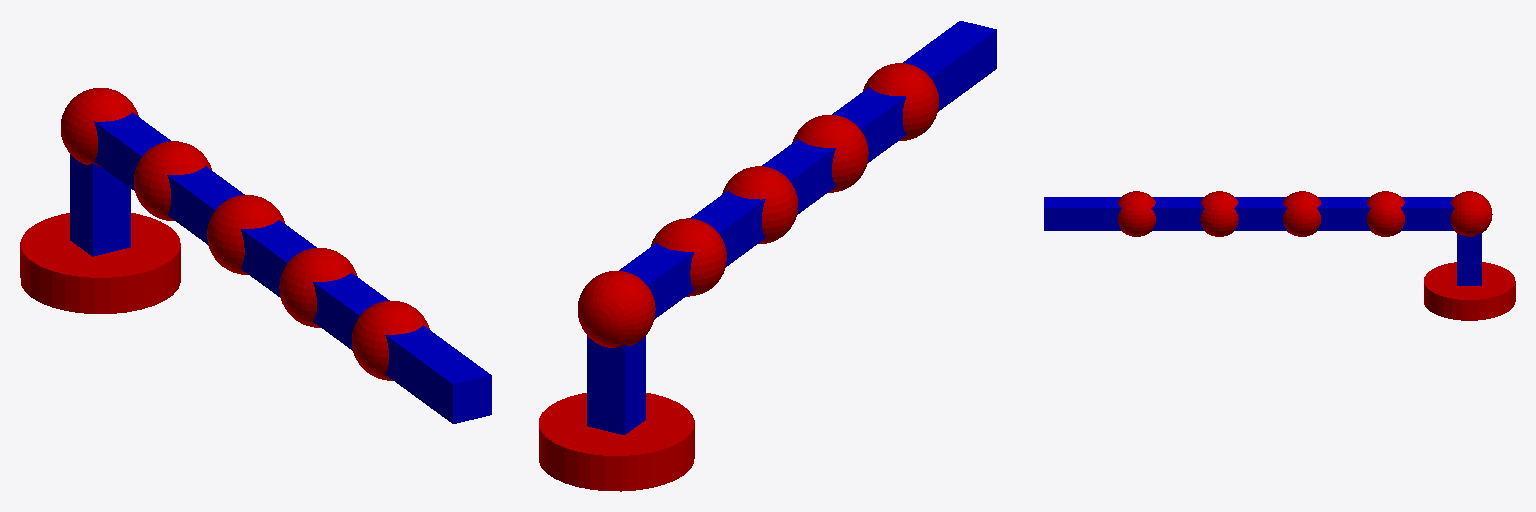
URDF robot description (divar3v1515955550):
<?xml version="1.0"?>
<robot  name="divar3v1515955550" >
 <material  name="blue" >
  <color  rgba="0 0 0.8 1.0" />
 </material>
 <material  name="red" >
  <color  rgba="0.8 0 0 1.0" />
 </material>
 <link  name="base_link" >
  <visual >
   <origin  xyz="0 0 0"  rpy="0 0 0" />
   <material  name="red" />
   <geometry >
    <cylinder  length="0.05"  radius="0.1" />
   </geometry>
  </visual>
 </link>
 <joint  name="joint1"  type="revolute" >
  <parent  link="base_link" />
  <child  link="link1" />
  <origin  xyz="0 0 0"  rpy="0 0 0" />
  <axis  xyz="0 0 1" />
 </joint>
 <link  name="link1" >
  <inertial >
   <origin  xyz="0 0 0.0924"  rpy="0 0 0" />
   <mass  value="0.586971" />
   <inertia  ixy="0.0"  ixz="0.0"  ixx="0.0018184381145699997"  iyy="0.0002959312125"  iyz="0.0"  izz="0.0018184381145699997" />
  </inertial>
  <visual >
   <origin  xyz="0 0 0.0924"  rpy="0 0 0" />
   <material  name="blue" />
   <geometry >
    <box  size="0.055 0.055 0.1848" />
   </geometry>
  </visual>
 </link>
 <joint  name="joint-joint-1"  type="fixed" >
  <parent  link="link1" />
  <child  link="joint-link-1" />
  <origin  xyz="0 0 0.1848"  rpy="1.5707 0 0" />
  <axis  xyz="1 0 0" />
 </joint>
 <link  name="joint-link-1" >
  <inertial >
   <origin  xyz="0 0 0"  rpy="0 0 0" />
   <mass  value="0.1" />
   <inertia  ixy="0"  ixz="0"  ixx="0"  iyy="0"  iyz="0"  izz="0" />
  </inertial>
  <visual >
   <origin  xyz="0 0 0"  rpy="0 0 0" />
   <material  name="red" />
   <geometry >
    <sphere  radius="0.05" />
   </geometry>
  </visual>
 </link>
 <joint  name="joint2"  type="revolute" >
  <parent  link="link1" />
  <child  link="link2" />
  <origin  xyz="0 0 0.1848"  rpy="1.5707 0 0" />
  <axis  xyz="1 0 0" />
 </joint>
 <link  name="link2" >
  <inertial >
   <origin  xyz="0 0 0.09115"  rpy="0 0 0" />
   <mass  value="0.579030375" />
   <inertia  ixy="0.0"  ixz="0.0"  ixx="0.0017495542712965622"  iyy="0.00029192781406249996"  iyz="0.0"  izz="0.0017495542712965622" />
  </inertial>
  <visual >
   <origin  xyz="0 0 0.09115"  rpy="0 0 0" />
   <material  name="blue" />
   <geometry >
    <box  size="0.055 0.055 0.1823" />
   </geometry>
  </visual>
 </link>
 <joint  name="joint-joint-2"  type="fixed" >
  <parent  link="link2" />
  <child  link="joint-link-2" />
  <origin  xyz="0 0 0.1823"  rpy="1.5707 0 0" />
  <axis  xyz="1 0 0" />
 </joint>
 <link  name="joint-link-2" >
  <inertial >
   <origin  xyz="0 0 0"  rpy="0 0 0" />
   <mass  value="0.1" />
   <inertia  ixy="0"  ixz="0"  ixx="0"  iyy="0"  iyz="0"  izz="0" />
  </inertial>
  <visual >
   <origin  xyz="0 0 0"  rpy="0 0 0" />
   <material  name="red" />
   <geometry >
    <sphere  radius="0.05" />
   </geometry>
  </visual>
 </link>
 <joint  name="joint3"  type="revolute" >
  <parent  link="link2" />
  <child  link="link3" />
  <origin  xyz="0 0 0.1823"  rpy="0 0 0" />
  <axis  xyz="0 0 1" />
 </joint>
 <link  name="link3" >
  <inertial >
   <origin  xyz="0 0 0.09115"  rpy="0 0 0" />
   <mass  value="0.579030375" />
   <inertia  ixy="0.0"  ixz="0.0"  ixx="0.0017495542712965622"  iyy="0.00029192781406249996"  iyz="0.0"  izz="0.0017495542712965622" />
  </inertial>
  <visual >
   <origin  xyz="0 0 0.09115"  rpy="0 0 0" />
   <material  name="blue" />
   <geometry >
    <box  size="0.055 0.055 0.1823" />
   </geometry>
  </visual>
 </link>
 <joint  name="joint-joint-3"  type="fixed" >
  <parent  link="link3" />
  <child  link="joint-link-3" />
  <origin  xyz="0 0 0.1823"  rpy="1.5707 0 0" />
  <axis  xyz="1 0 0" />
 </joint>
 <link  name="joint-link-3" >
  <inertial >
   <origin  xyz="0 0 0"  rpy="0 0 0" />
   <mass  value="0.1" />
   <inertia  ixy="0"  ixz="0"  ixx="0"  iyy="0"  iyz="0"  izz="0" />
  </inertial>
  <visual >
   <origin  xyz="0 0 0"  rpy="0 0 0" />
   <material  name="red" />
   <geometry >
    <sphere  radius="0.05" />
   </geometry>
  </visual>
 </link>
 <joint  name="joint4"  type="revolute" >
  <parent  link="link3" />
  <child  link="link4" />
  <origin  xyz="0 0 0.1823"  rpy="0 0 0" />
  <axis  xyz="0 1 0" />
 </joint>
 <link  name="link4" >
  <inertial >
   <origin  xyz="0 0 0.09"  rpy="0 0 0" />
   <mass  value="0.5717249999999999" />
   <inertia  ixy="0.0"  ixz="0.0"  ixx="0.0016877798437499997"  iyy="0.00028824468749999996"  iyz="0.0"  izz="0.0016877798437499997" />
  </inertial>
  <visual >
   <origin  xyz="0 0 0.09"  rpy="0 0 0" />
   <material  name="blue" />
   <geometry >
    <box  size="0.055 0.055 0.18" />
   </geometry>
  </visual>
 </link>
 <joint  name="joint-joint-4"  type="fixed" >
  <parent  link="link4" />
  <child  link="joint-link-4" />
  <origin  xyz="0 0 0.18"  rpy="1.5707 0 0" />
  <axis  xyz="1 0 0" />
 </joint>
 <link  name="joint-link-4" >
  <inertial >
   <origin  xyz="0 0 0"  rpy="0 0 0" />
   <mass  value="0.1" />
   <inertia  ixy="0"  ixz="0"  ixx="0"  iyy="0"  iyz="0"  izz="0" />
  </inertial>
  <visual >
   <origin  xyz="0 0 0"  rpy="0 0 0" />
   <material  name="red" />
   <geometry >
    <sphere  radius="0.05" />
   </geometry>
  </visual>
 </link>
 <joint  name="joint5"  type="revolute" >
  <parent  link="link4" />
  <child  link="link5" />
  <origin  xyz="0 0 0.18"  rpy="0 0 0" />
  <axis  xyz="0 0 1" />
 </joint>
 <link  name="link5" >
  <inertial >
   <origin  xyz="0 0 0.09"  rpy="0 0 0" />
   <mass  value="0.5717249999999999" />
   <inertia  ixy="0.0"  ixz="0.0"  ixx="0.0016877798437499997"  iyy="0.00028824468749999996"  iyz="0.0"  izz="0.0016877798437499997" />
  </inertial>
  <visual >
   <origin  xyz="0 0 0.09"  rpy="0 0 0" />
   <material  name="blue" />
   <geometry >
    <box  size="0.055 0.055 0.18" />
   </geometry>
  </visual>
 </link>
 <joint  name="joint-joint-5"  type="fixed" >
  <parent  link="link5" />
  <child  link="joint-link-5" />
  <origin  xyz="0 0 0.18"  rpy="1.5707 0 0" />
  <axis  xyz="1 0 0" />
 </joint>
 <link  name="joint-link-5" >
  <inertial >
   <origin  xyz="0 0 0"  rpy="0 0 0" />
   <mass  value="0.1" />
   <inertia  ixy="0"  ixz="0"  ixx="0"  iyy="0"  iyz="0"  izz="0" />
  </inertial>
  <visual >
   <origin  xyz="0 0 0"  rpy="0 0 0" />
   <material  name="red" />
   <geometry >
    <sphere  radius="0.05" />
   </geometry>
  </visual>
 </link>
 <joint  name="joint6"  type="revolute" >
  <parent  link="link5" />
  <child  link="link6" />
  <origin  xyz="0 0 0.18"  rpy="0 0 0" />
  <axis  xyz="0 1 0" />
 </joint>
 <link  name="link6" >
  <inertial >
   <origin  xyz="0 0 0.0005"  rpy="0 0 0" />
   <mass  value="0.0031762500000000003" />
   <inertia  ixy="0.0"  ixz="0.0"  ixx="8.009443750000001e-07"  iyy="1.601359375e-06"  iyz="0.0"  izz="8.009443750000001e-07" />
  </inertial>
  <visual >
   <origin  xyz="0 0 0.0005"  rpy="0 0 0" />
   <material  name="blue" />
   <geometry >
    <box  size="0.055 0.055 0.001" />
   </geometry>
  </visual>
 </link>
 <joint  name="joint7"  type="revolute" >
  <parent  link="link6" />
  <child  link="link7" />
  <origin  xyz="0 0 0.001"  rpy="0 0 0" />
  <axis  xyz="1 0 0" />
 </joint>
 <link  name="link7" >
  <inertial >
   <origin  xyz="0 0 0.1"  rpy="0 0 0" />
   <mass  value="0.6352500000000001" />
   <inertia  ixy="0.0"  ixz="0.0"  ixx="0.0022776359375000005"  iyy="0.00032027187500000004"  iyz="0.0"  izz="0.0022776359375000005" />
  </inertial>
  <visual >
   <origin  xyz="0 0 0.1"  rpy="0 0 0" />
   <material  name="blue" />
   <geometry >
    <box  size="0.055 0.055 0.2" />
   </geometry>
  </visual>
 </link>
 <joint  name="eef_joint"  type="fixed" >
  <parent  link="link7" />
  <child  link="eef" />
  <origin  xyz="0 0 0.2"  rpy="0 0 0" />
 </joint>
 <link  name="eef" />
 <transmission  name="motor1" >
  <type  xmltext="SimpleTransmission" >
   SimpleTransmission
  </type>
  <actuator  name="motor1" >
   <mechanicalreduction  xmltext="1" >
    1
   </mechanicalreduction>
  </actuator>
  <joint  name="joint1" />
 </transmission>
 <transmission  name="motor2" >
  <type  xmltext="SimpleTransmission" >
   SimpleTransmission
  </type>
  <actuator  name="motor2" >
   <mechanicalreduction  xmltext="1" >
    1
   </mechanicalreduction>
  </actuator>
  <joint  name="joint2" />
 </transmission>
 <transmission  name="motor3" >
  <type  xmltext="SimpleTransmission" >
   SimpleTransmission
  </type>
  <actuator  name="motor3" >
   <mechanicalreduction  xmltext="1" >
    1
   </mechanicalreduction>
  </actuator>
  <joint  name="joint3" />
 </transmission>
 <transmission  name="motor4" >
  <type  xmltext="SimpleTransmission" >
   SimpleTransmission
  </type>
  <actuator  name="motor4" >
   <mechanicalreduction  xmltext="1" >
    1
   </mechanicalreduction>
  </actuator>
  <joint  name="joint4" />
 </transmission>
 <transmission  name="motor5" >
  <type  xmltext="SimpleTransmission" >
   SimpleTransmission
  </type>
  <actuator  name="motor5" >
   <mechanicalreduction  xmltext="1" >
    1
   </mechanicalreduction>
  </actuator>
  <joint  name="joint5" />
 </transmission>
 <transmission  name="motor6" >
  <type  xmltext="SimpleTransmission" >
   SimpleTransmission
  </type>
  <actuator  name="motor6" >
   <mechanicalreduction  xmltext="1" >
    1
   </mechanicalreduction>
  </actuator>
  <joint  name="joint6" />
 </transmission>
 <transmission  name="motor7" >
  <type  xmltext="SimpleTransmission" >
   SimpleTransmission
  </type>
  <actuator  name="motor7" >
   <mechanicalreduction  xmltext="1" >
    1
   </mechanicalreduction>
  </actuator>
  <joint  name="joint7" />
 </transmission>
</robot>

<!-- [1.848000e-01 3.646000e-01 5.000000e-01 3.600000e-01 5.000000e-01
 1.600000e+01 3.000000e+01 1.000000e-01 3.000000e+01 1.638995e+02
 4.520000e+00 2.000000e-01 6.460000e+02 6.900000e+07 5.600000e+07]-->

--- Facts derived from the render (not from the file) ---
Views: 3 orthographic renders of the robot side by side, from view 1: azimuth 30°, elevation 25°; view 2: azimuth 150°, elevation 25°; view 3: azimuth 270°, elevation 25°.
Robot: divar3v1515955550 — 14 links, 13 joints (7 revolute, 6 fixed); root link base_link; default pose: every joint at zero.
Links seen in each view (by area): view 1: base_link, link7, link1, joint-link-5, joint-link-3, joint-link-4, joint-link-2, joint-link-1, link3, link2, link5, link4; view 2: base_link, link1, joint-link-1, link7, joint-link-4, joint-link-2, joint-link-3, joint-link-5, link3, link2, link5, link4; view 3: base_link, link7, link3, link2, link5, link4, joint-link-1, joint-link-2, joint-link-3, joint-link-5, joint-link-4, link1.
Link boxes in pixels (left/top/right/bottom): base_link: left=20, top=213, right=180, bottom=313; link7: left=385, top=325, right=491, bottom=423; link1: left=70, top=154, right=130, bottom=256; joint-link-5: left=352, top=301, right=429, bottom=380; joint-link-3: left=207, top=195, right=284, bottom=274; joint-link-4: left=279, top=248, right=357, bottom=327; joint-link-2: left=134, top=141, right=211, bottom=220; joint-link-1: left=61, top=88, right=138, bottom=166; link3: left=167, top=166, right=244, bottom=244; link2: left=94, top=112, right=170, bottom=190; link5: left=313, top=273, right=389, bottom=350; link4: left=241, top=220, right=316, bottom=296; base_link: left=539, top=393, right=694, bottom=491; link1: left=587, top=335, right=645, bottom=434; joint-link-1: left=578, top=271, right=655, bottom=347; link7: left=903, top=21, right=996, bottom=111; joint-link-4: left=792, top=115, right=868, bottom=192; joint-link-2: left=651, top=218, right=726, bottom=296; joint-link-3: left=722, top=166, right=797, bottom=243; joint-link-5: left=863, top=63, right=938, bottom=140; link3: left=690, top=190, right=765, bottom=266; link2: left=619, top=243, right=693, bottom=319; link5: left=832, top=87, right=905, bottom=162; link4: left=762, top=139, right=835, bottom=214; base_link: left=1424, top=262, right=1515, bottom=320; link7: left=1044, top=197, right=1121, bottom=230; link3: left=1317, top=197, right=1370, bottom=230; link2: left=1400, top=197, right=1454, bottom=230; link5: left=1151, top=197, right=1204, bottom=230; link4: left=1234, top=197, right=1287, bottom=230; joint-link-1: left=1450, top=191, right=1492, bottom=236; joint-link-2: left=1367, top=191, right=1404, bottom=236; joint-link-3: left=1283, top=191, right=1320, bottom=236; joint-link-5: left=1118, top=191, right=1155, bottom=236; joint-link-4: left=1200, top=191, right=1238, bottom=236; link1: left=1457, top=233, right=1481, bottom=285.
Size in the robot's own frame: 0.2 by 1.03 by 0.2599 metres.
Geometry: primitives only (box / cylinder / sphere), no mesh files.
